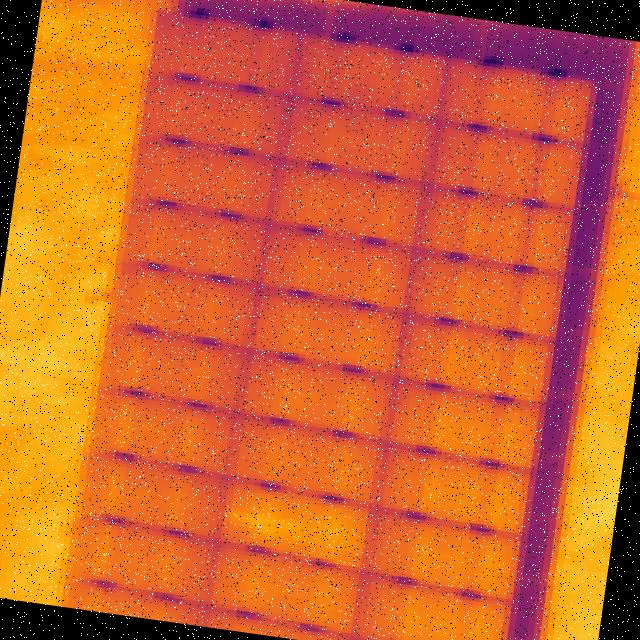Hotspot: (224, 484, 372, 564)
